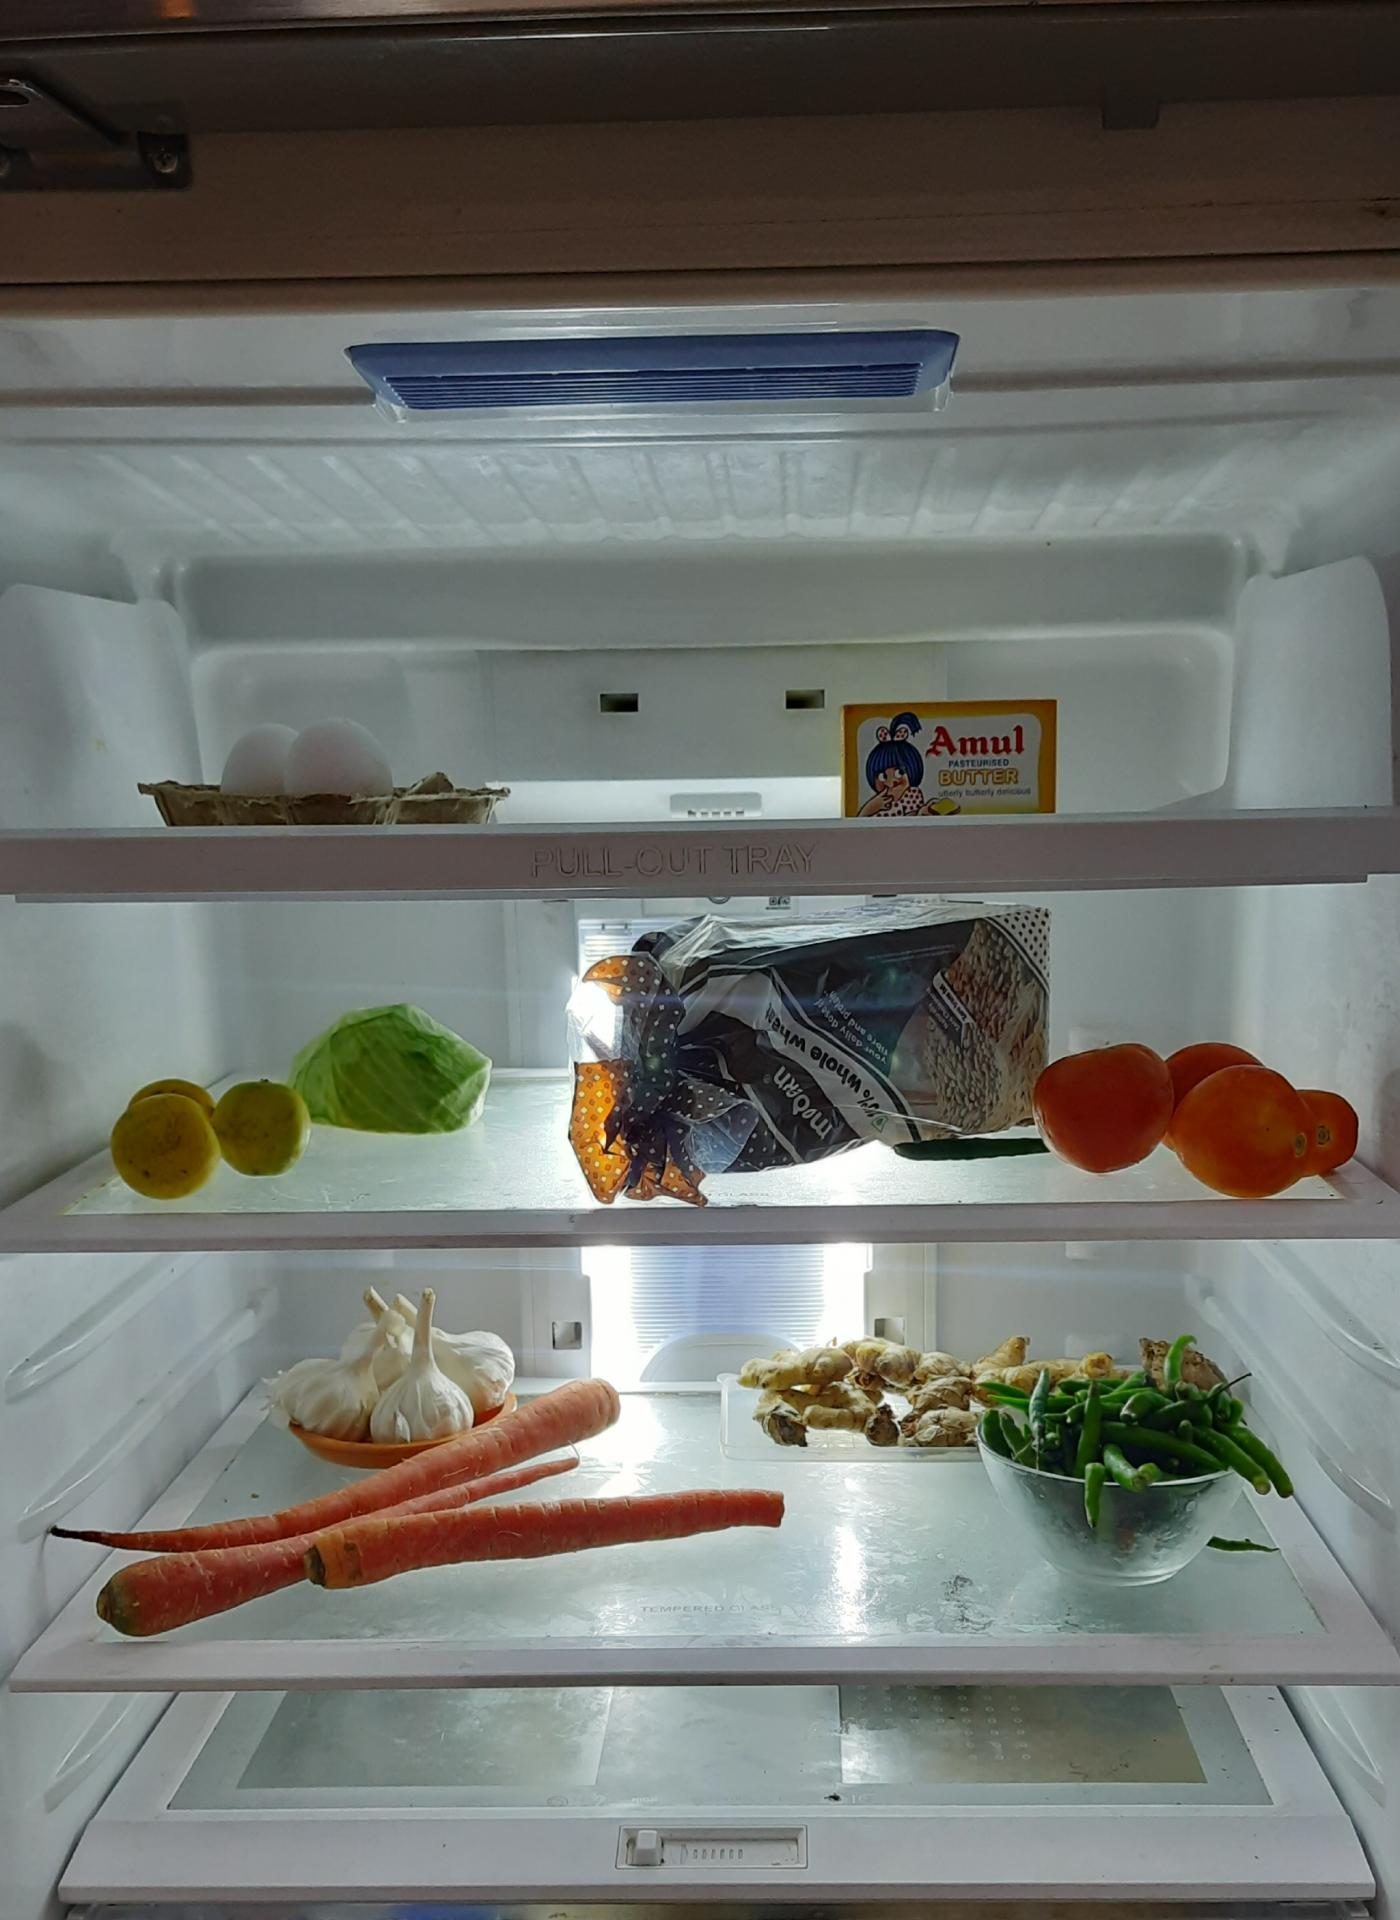bread: (586, 914, 1057, 1173)
butter: (844, 692, 1062, 812)
cabbage: (286, 1009, 491, 1136)
carrots: (48, 1370, 802, 1637)
chillies: (986, 1348, 1281, 1550)
egg: (225, 719, 398, 812)
garlic: (283, 1289, 520, 1450)
ginger: (745, 1334, 1000, 1450)
lemon: (106, 1070, 309, 1193)
tomato: (1039, 1033, 1363, 1204)
